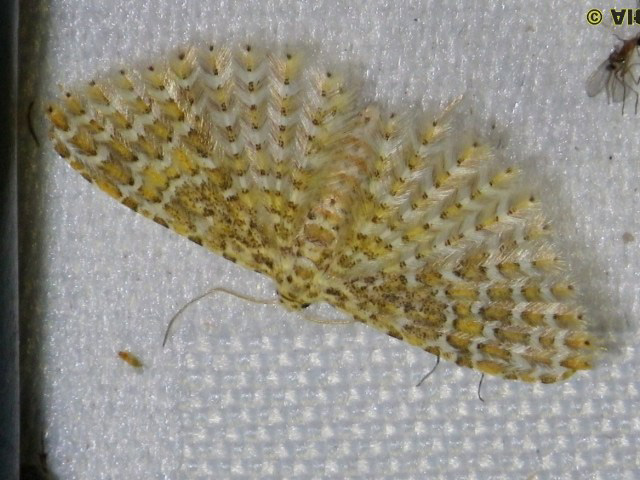Alucitidae: (38, 31, 605, 402)
moth: (40, 33, 607, 404)
